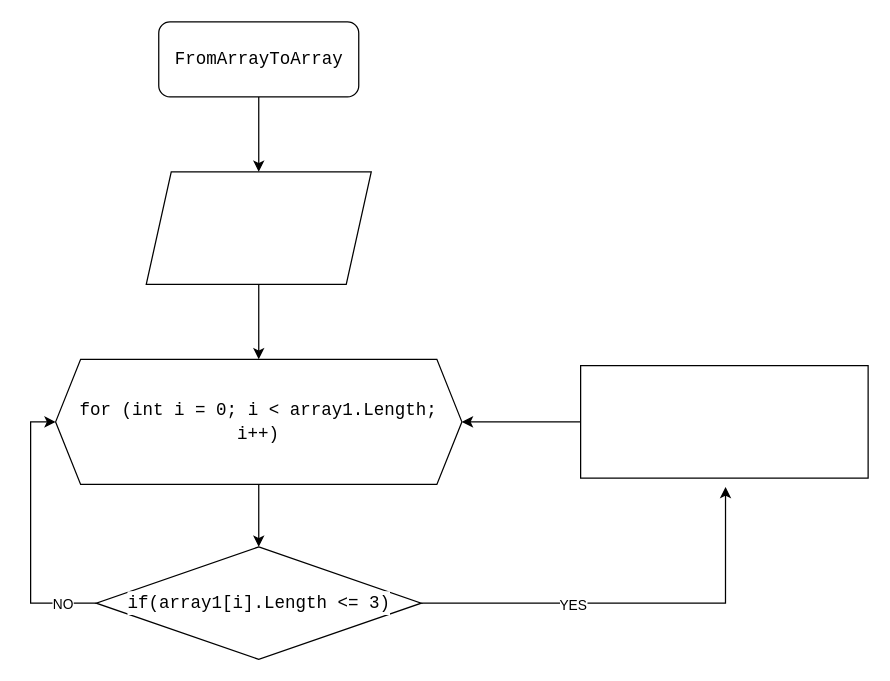
Image size: 890x681. Some labels were removed from this diagram. The box of each missing label's shape, as (x1, y1, x2, y2) in pixels:
array2[ count ] = array1 [ i ]; count ++;: (579, 364, 868, 478)
string[] array1 string[] array2 int count = 0: (145, 171, 371, 284)
